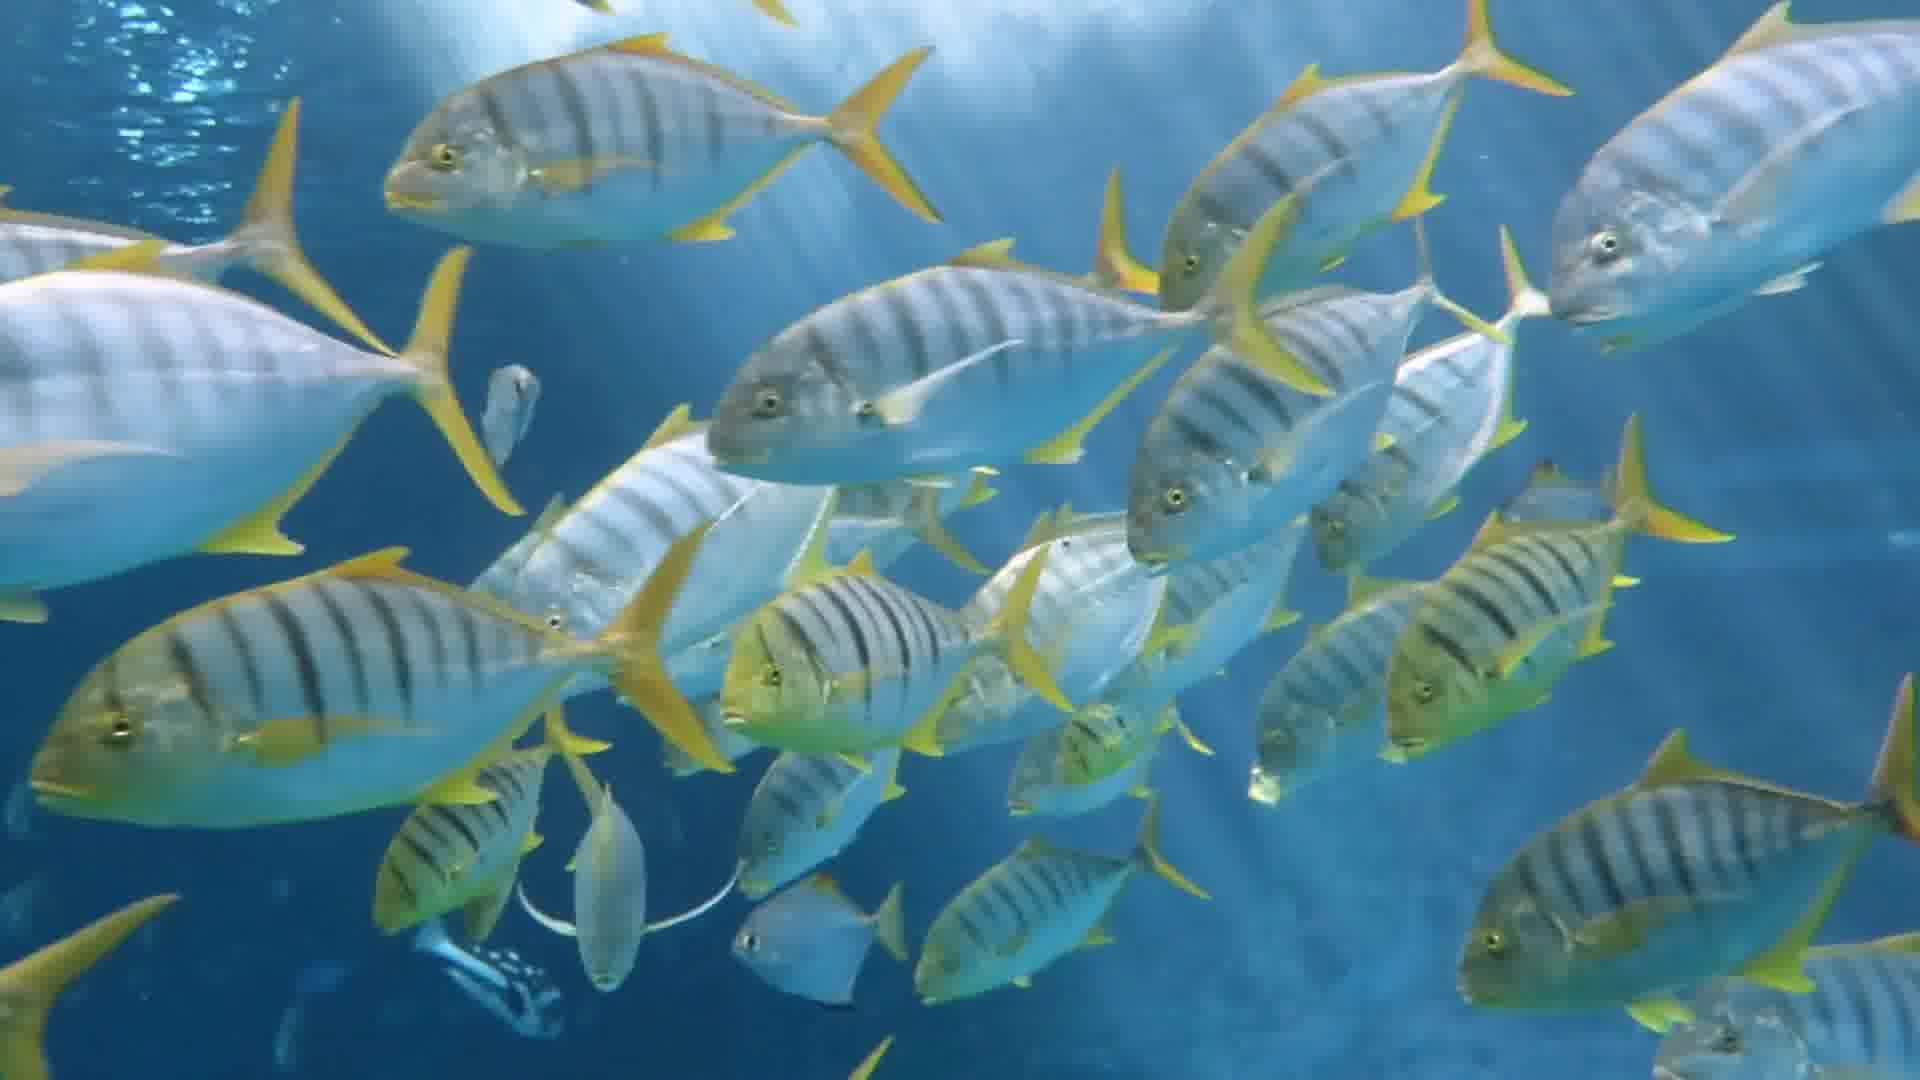Gnathanodon speciosus: (24, 560, 655, 833), (1445, 725, 1919, 1007), (727, 233, 1232, 484), (1567, 17, 1919, 375), (349, 41, 989, 235), (1145, 11, 1527, 303), (1375, 455, 1695, 754), (1131, 280, 1433, 576), (907, 819, 1215, 1011), (711, 568, 1007, 738), (1644, 935, 1920, 1077), (733, 729, 914, 887)
